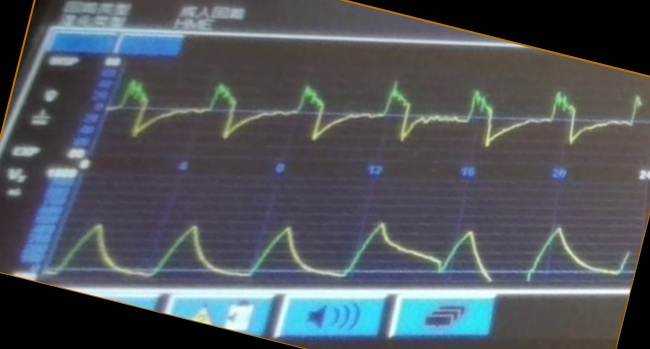Accumulation Flow: (122, 74, 646, 157)
Volume: (75, 197, 627, 286)
